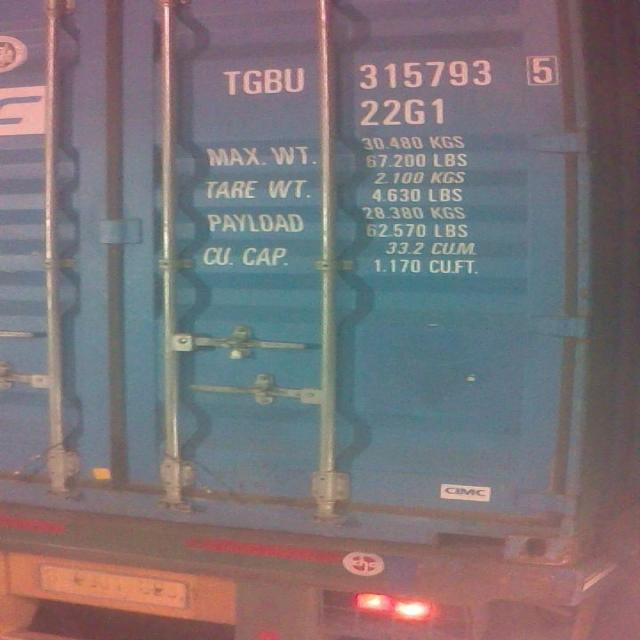seal: (226, 333, 252, 362)
